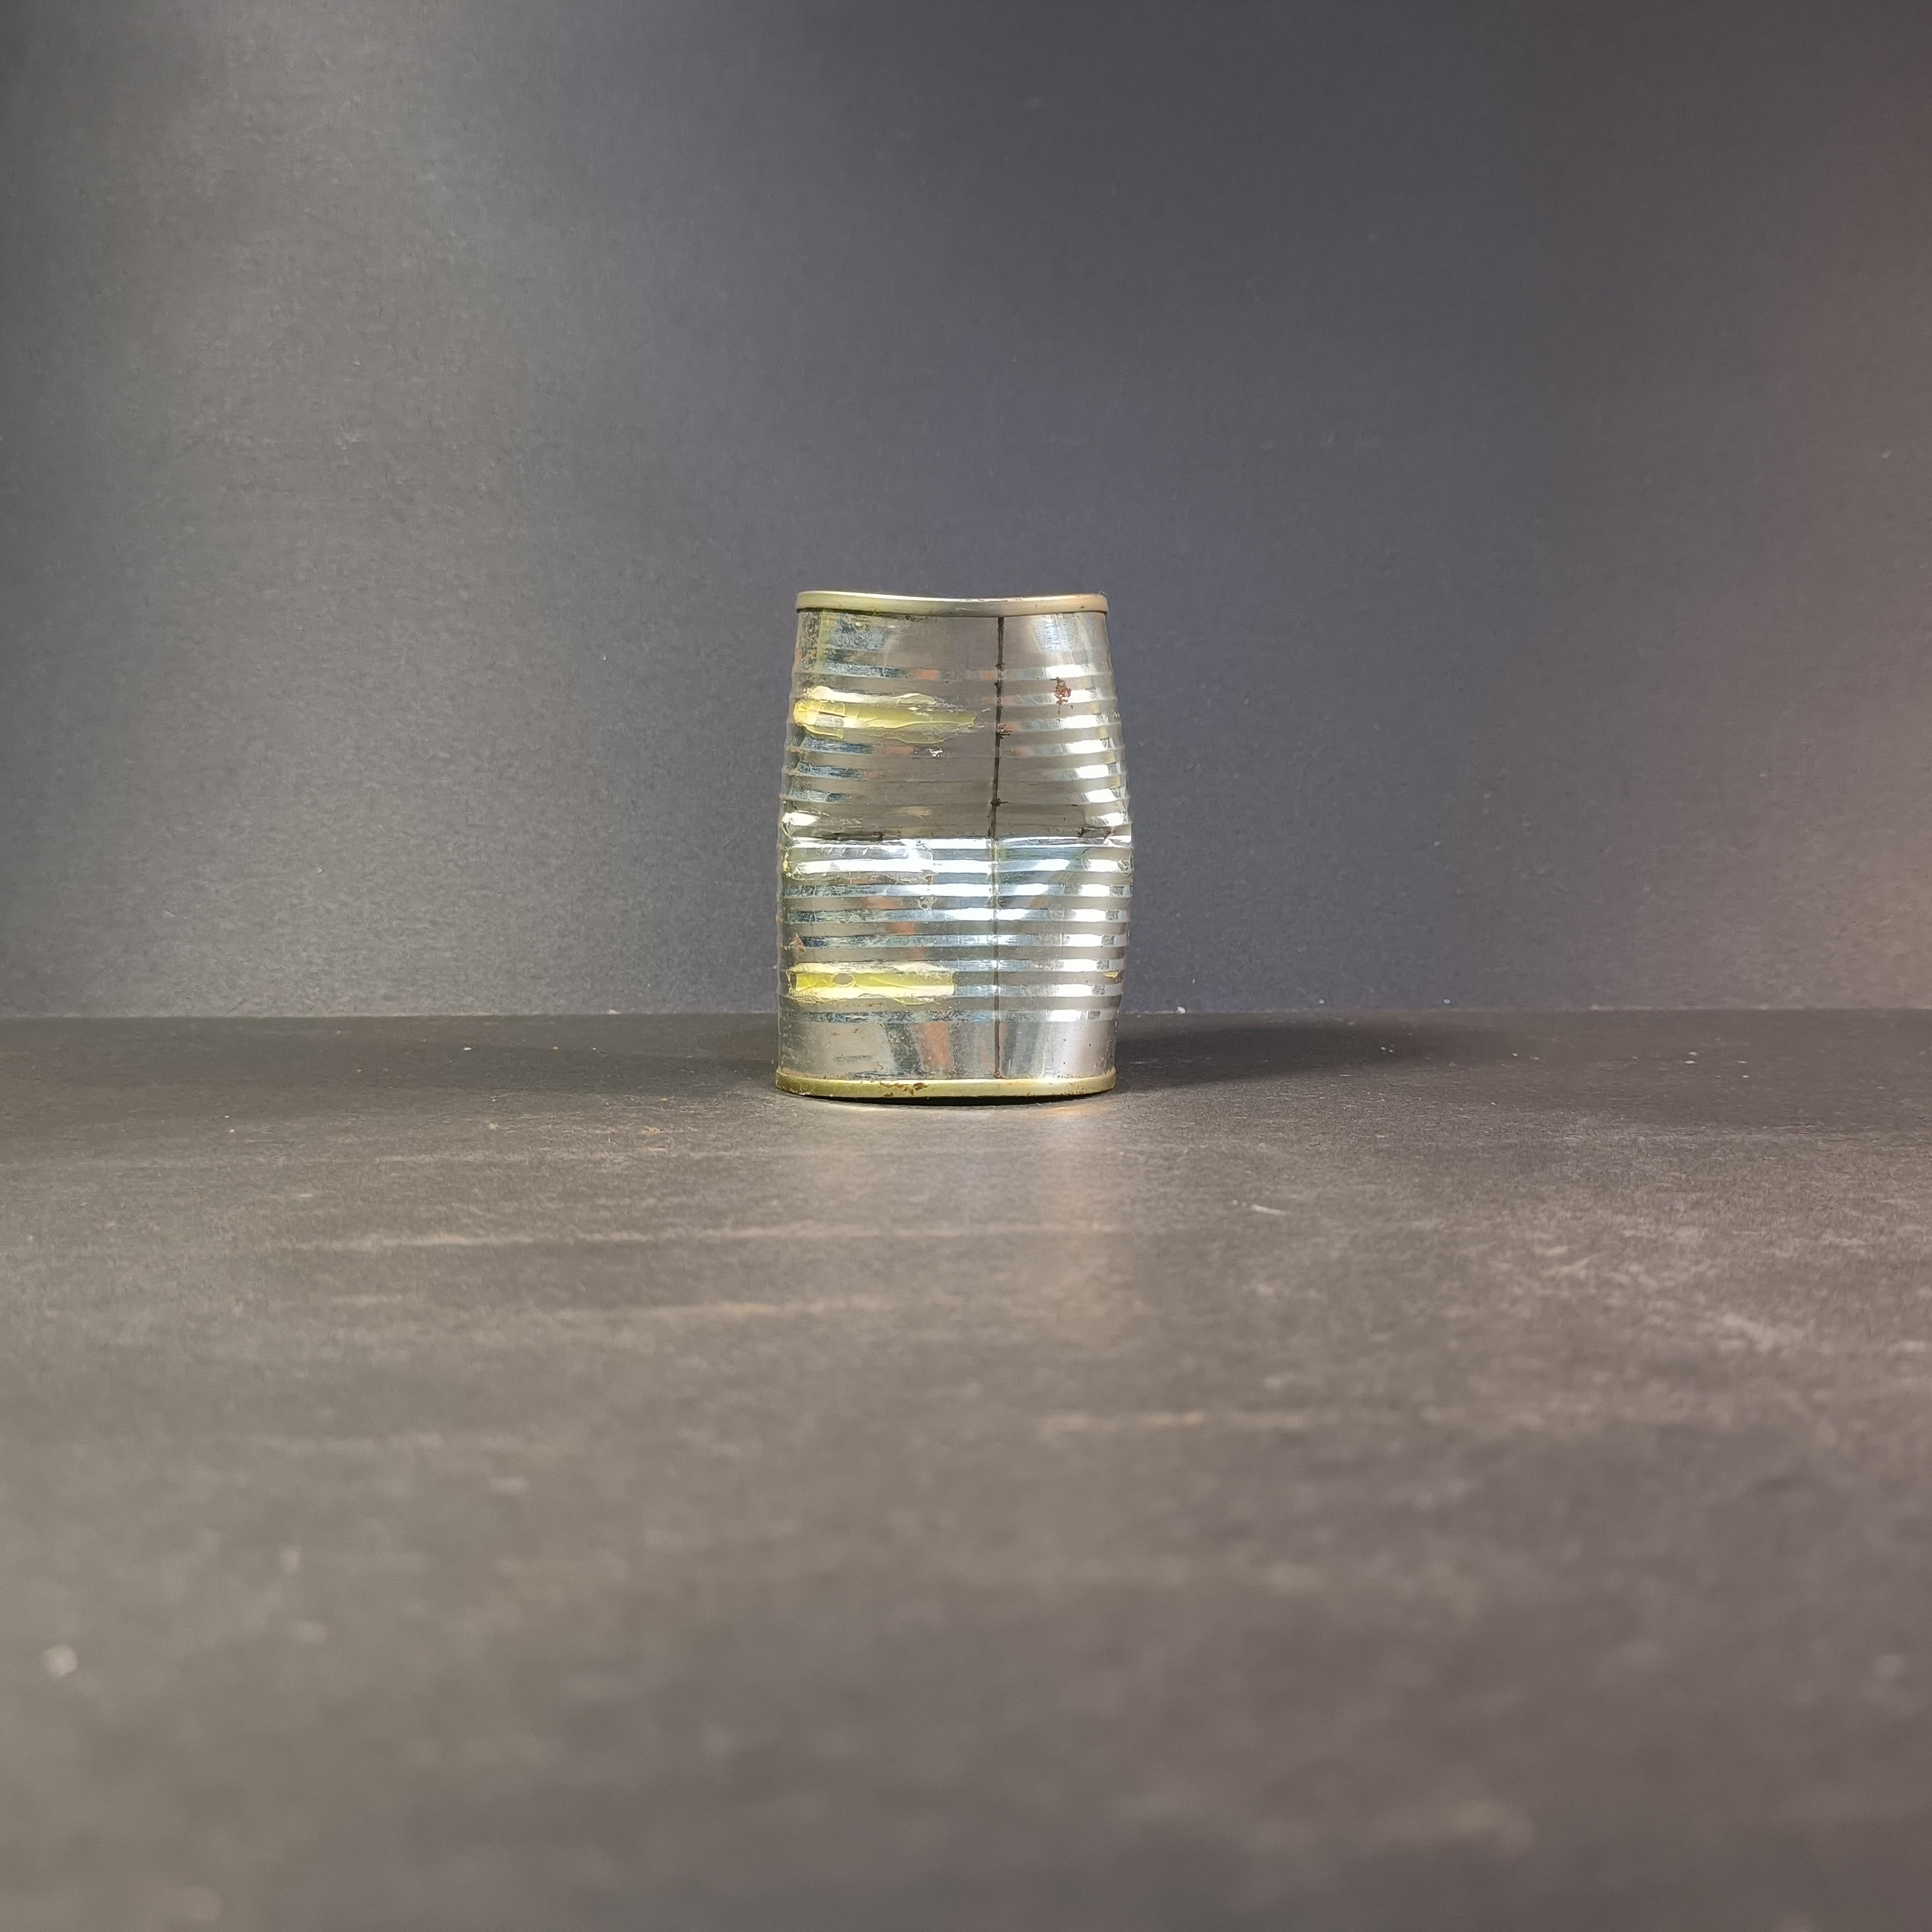Dented: (748, 557, 1138, 1127)
